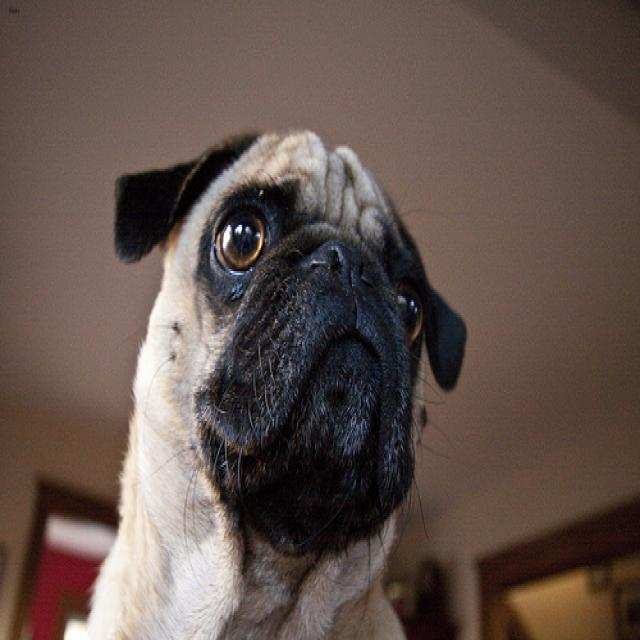dog-pug: (63, 117, 474, 636)
